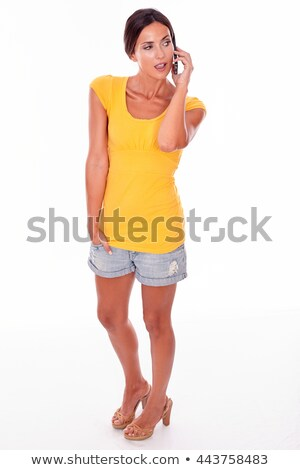phone: (167, 44, 192, 80)
talk: (137, 28, 201, 94)
